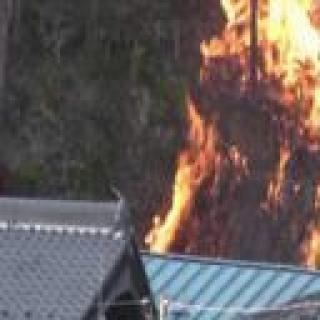fire: (162, 0, 320, 269)
